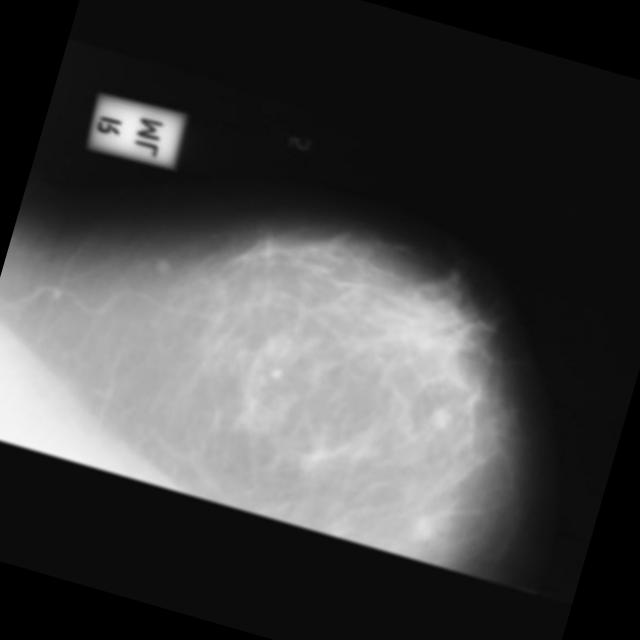MISC: (408, 511, 438, 542)
